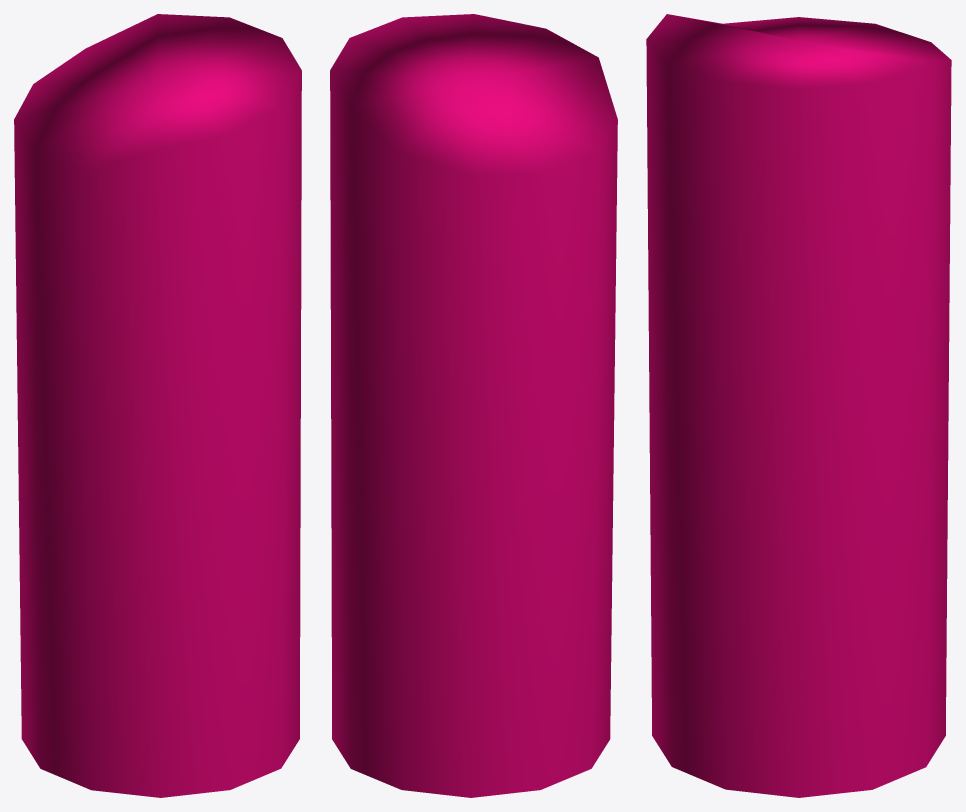
The model's file is Candle_03.fbx.
The picture shows the model from 3 angles, left to right: view 1: azimuth 30°, elevation 25°; view 2: azimuth 150°, elevation 25°; view 3: azimuth 270°, elevation 25°; orthographic projection. The views are drawn at different scales.
Parts seen in each view (by area): view 1: Candle_03; view 2: Candle_03; view 3: Candle_03.
Boxes of the visible parts, left/top/right/bottom form: Candle_03: left=14, top=14, right=301, bottom=797; Candle_03: left=330, top=14, right=617, bottom=797; Candle_03: left=646, top=14, right=951, bottom=797.
Bounding box in the file's own units: 14.6 × 37.66 × 14.68.
